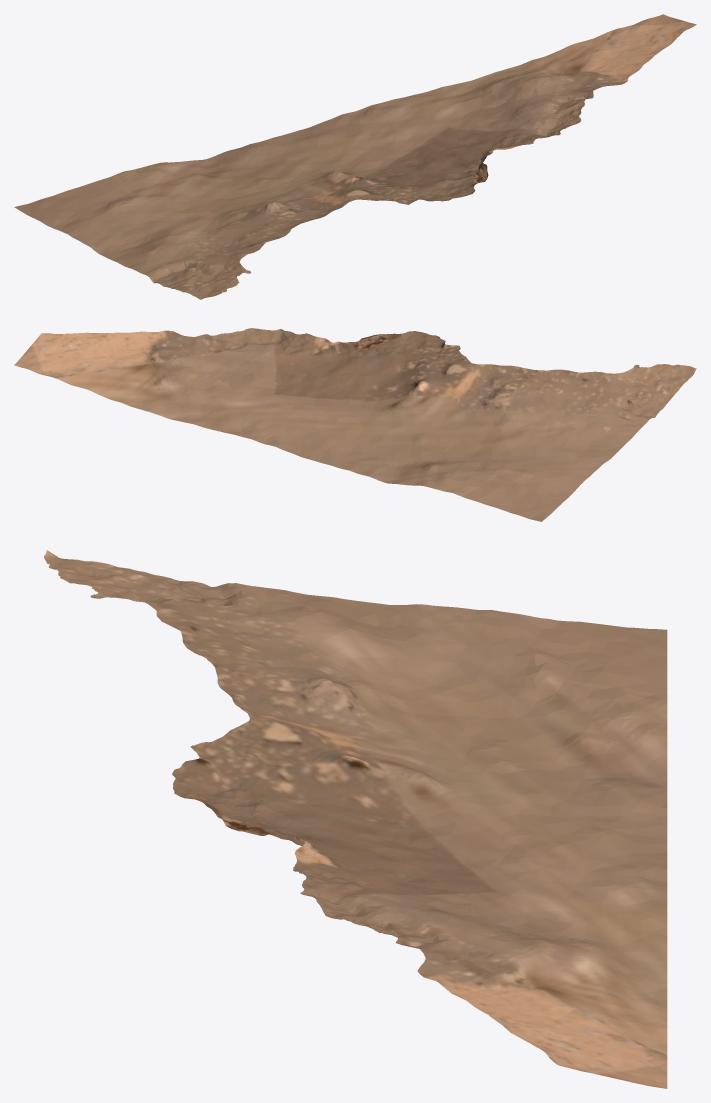
3 renders of one model, top to bottom at view 1: azimuth 30°, elevation 25°; view 2: azimuth 150°, elevation 25°; view 3: azimuth 270°, elevation 25°, orthographic. The views are drawn at different scales.
Bounding box in the file's own units: 1.04 × 0.0758 × 0.5342.
Materials: 1 (1 with a texture image).
